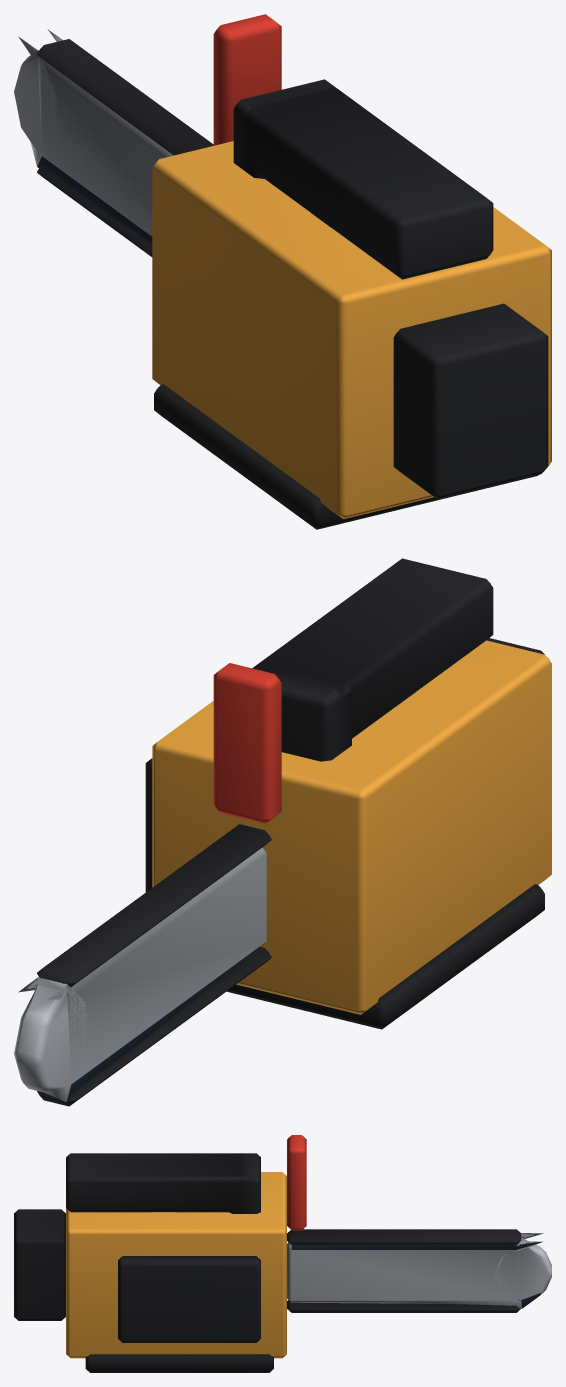
Rendered from chainsaw.glb.
3 views of the same model, one above another, from view 1: azimuth 30°, elevation 25°; view 2: azimuth 150°, elevation 25°; view 3: azimuth 270°, elevation 25° (orthographic). The views are drawn at different scales.
Parts seen in each view (by area): view 1: Chainsaw; view 2: Chainsaw; view 3: Chainsaw.
Boxes of the visible parts, bbox=[...] form: Chainsaw: bbox=[14, 14, 551, 529]; Chainsaw: bbox=[14, 558, 551, 1106]; Chainsaw: bbox=[14, 1135, 551, 1372].
Size of the model in its own units: 0.26 by 0.34 by 0.8273.
Materials: 1 (1 with a texture image).
